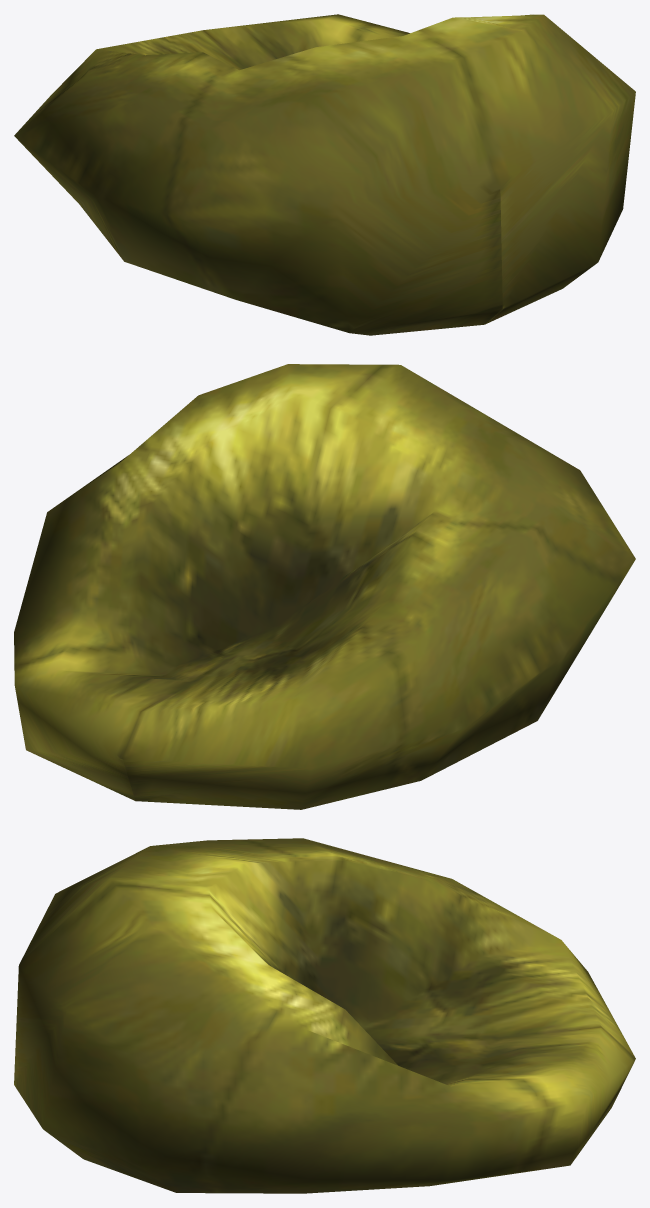
File: beanbag.fbx
3 renders of one model, top to bottom at view 1: azimuth 30°, elevation 25°; view 2: azimuth 150°, elevation 25°; view 3: azimuth 270°, elevation 25°, orthographic. The views are drawn at different scales.
Visible parts, largest first — view 1: mesh_0; view 2: mesh_0; view 3: mesh_0.
Part boxes in pixels (x1,y1,x2,y2): mesh_0: (14,14,635,335); mesh_0: (14,364,635,809); mesh_0: (14,838,635,1193).
Bounding box in the file's own units: 132 × 60.53 × 145.
1 material, 1 textured.
